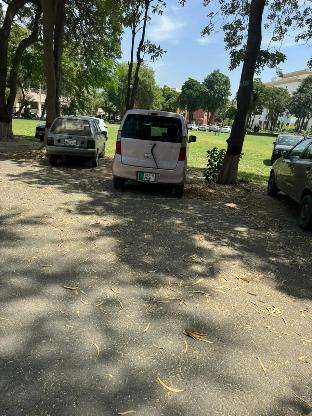car: (106, 104, 195, 203), (37, 107, 110, 169)
